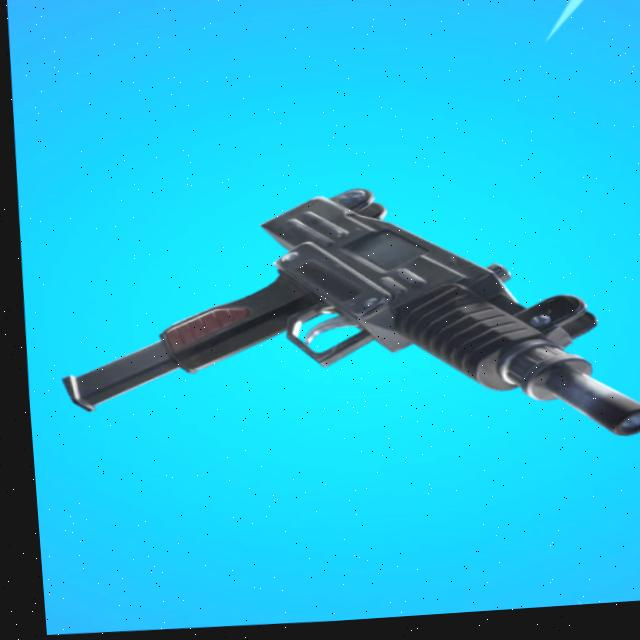firearm: (39, 170, 640, 478)
